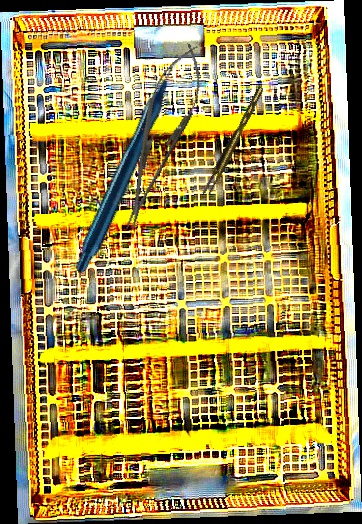Handpiece: (11, 53, 257, 274)
Needle Holder: (107, 37, 214, 237)
Tissue Forceps: (198, 86, 270, 197)
